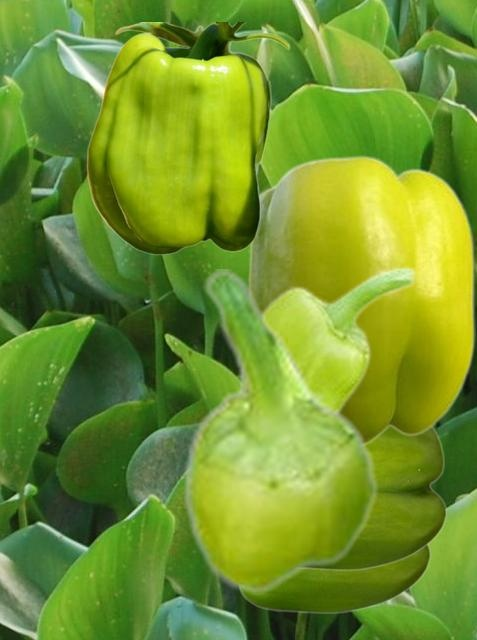bell_pepper: (246, 154, 474, 445), (182, 269, 378, 593), (86, 22, 289, 254), (238, 265, 417, 412), (309, 427, 446, 570), (240, 545, 430, 613)
